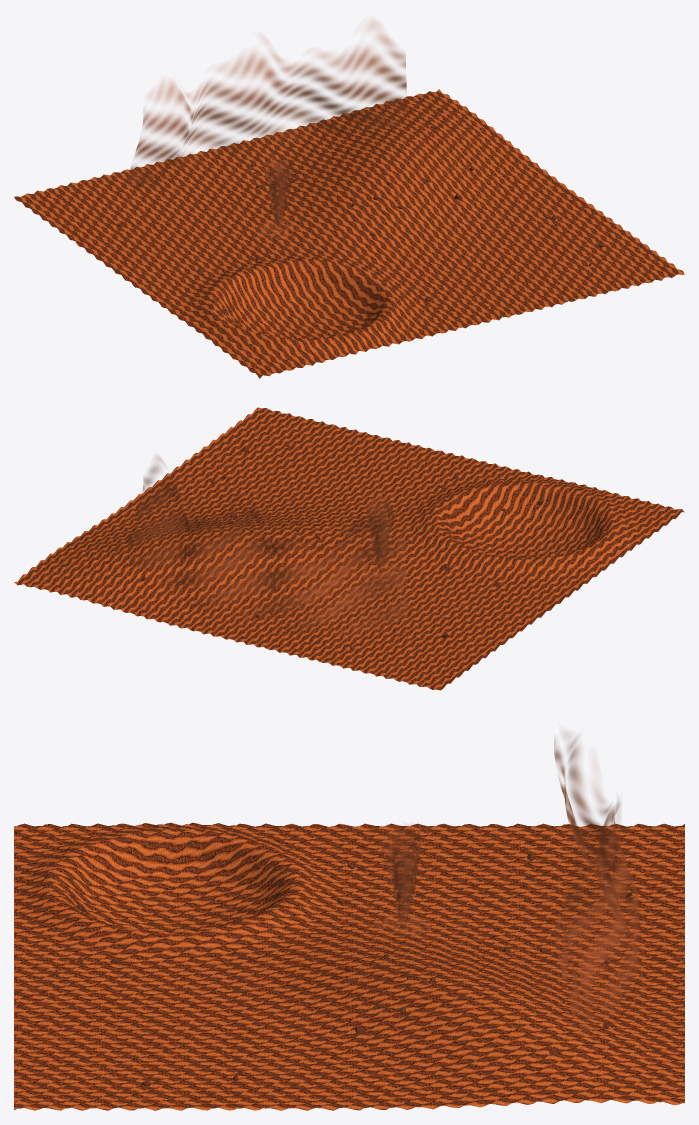
File: map.glb
The picture shows the model from 3 angles, top to bottom: view 1: azimuth 30°, elevation 25°; view 2: azimuth 150°, elevation 25°; view 3: azimuth 270°, elevation 25°; orthographic projection. The views are drawn at different scales.
Parts seen in each view (by area): view 1: Mars_Terrain_Detailed, FX_Sandstorm_Wall_Segment, FX_Dust_Devil_Vortex; view 2: Mars_Terrain_Detailed, FX_Sandstorm_Wall_Segment, FX_Dust_Devil_Vortex; view 3: Mars_Terrain_Detailed, FX_Sandstorm_Wall_Segment, FX_Dust_Devil_Vortex.
Boxes of the visible parts, <box> form: Mars_Terrain_Detailed: <box>14,89,684,378</box>; FX_Sandstorm_Wall_Segment: <box>126,21,407,202</box>; FX_Dust_Devil_Vortex: <box>262,156,294,229</box>; Mars_Terrain_Detailed: <box>14,407,684,690</box>; FX_Sandstorm_Wall_Segment: <box>127,456,407,639</box>; FX_Dust_Devil_Vortex: <box>366,496,398,571</box>; Mars_Terrain_Detailed: <box>14,822,684,1110</box>; FX_Sandstorm_Wall_Segment: <box>554,735,641,1036</box>; FX_Dust_Devil_Vortex: <box>379,825,422,927</box>.
Bounding box in the file's own units: 50 × 17.41 × 50.
2 materials, 2 textured.
